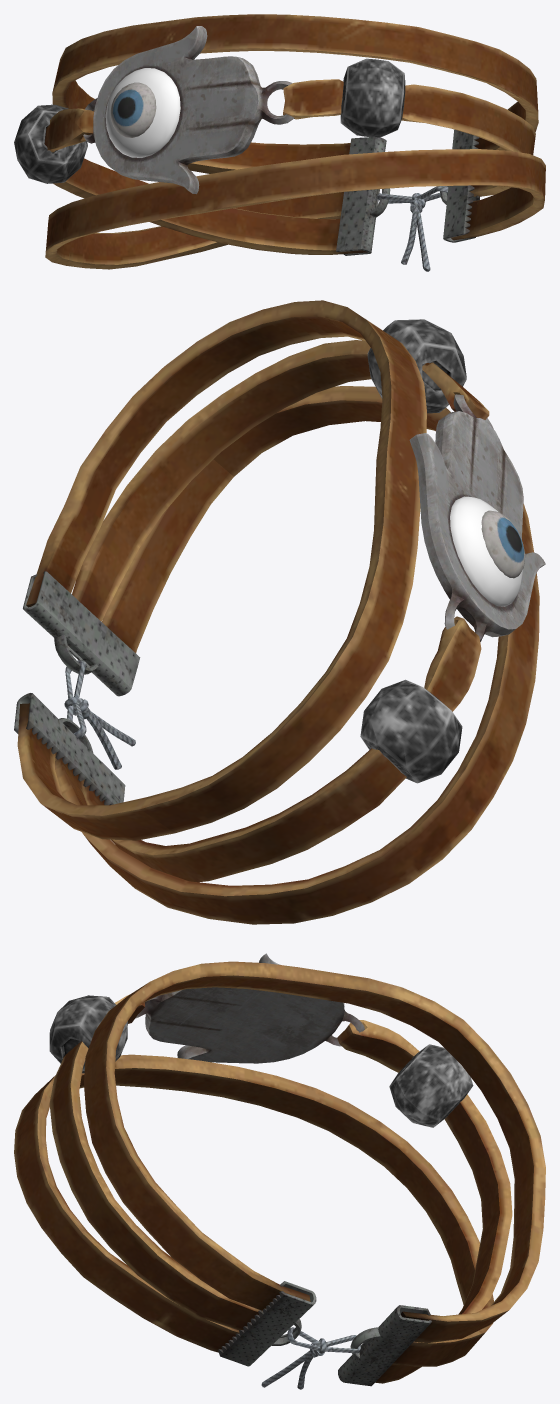
The picture shows the model from 3 angles, top to bottom: view 1: azimuth 30°, elevation 25°; view 2: azimuth 150°, elevation 25°; view 3: azimuth 270°, elevation 25°; orthographic projection. The views are drawn at different scales.
Visible parts, largest first — view 1: BluffTitler Model Layer 3_2, BluffTitler Model Layer 4_4; view 2: BluffTitler Model Layer 3_2, BluffTitler Model Layer 4_4; view 3: BluffTitler Model Layer 3_2, BluffTitler Model Layer 4_4.
Part boxes in pixels (box(x1,y1,x2,y2)): BluffTitler Model Layer 3_2: box(44, 14, 545, 271); BluffTitler Model Layer 4_4: box(14, 58, 405, 183); BluffTitler Model Layer 3_2: box(14, 300, 545, 924); BluffTitler Model Layer 4_4: box(360, 319, 522, 783); BluffTitler Model Layer 3_2: box(14, 953, 545, 1389); BluffTitler Model Layer 4_4: box(49, 995, 473, 1127).
Bounding box in the file's own units: 182 × 151 × 200.
Materials: 2 (2 with a texture image).
